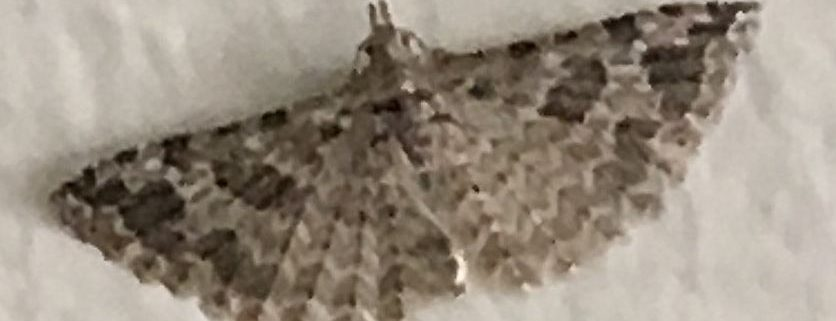Alucitidae: (49, 1, 775, 319)
moth: (51, 3, 777, 321)
